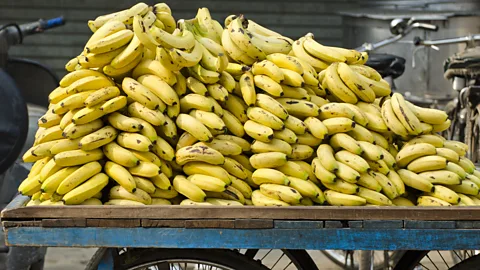banana: (23, 5, 480, 211)
